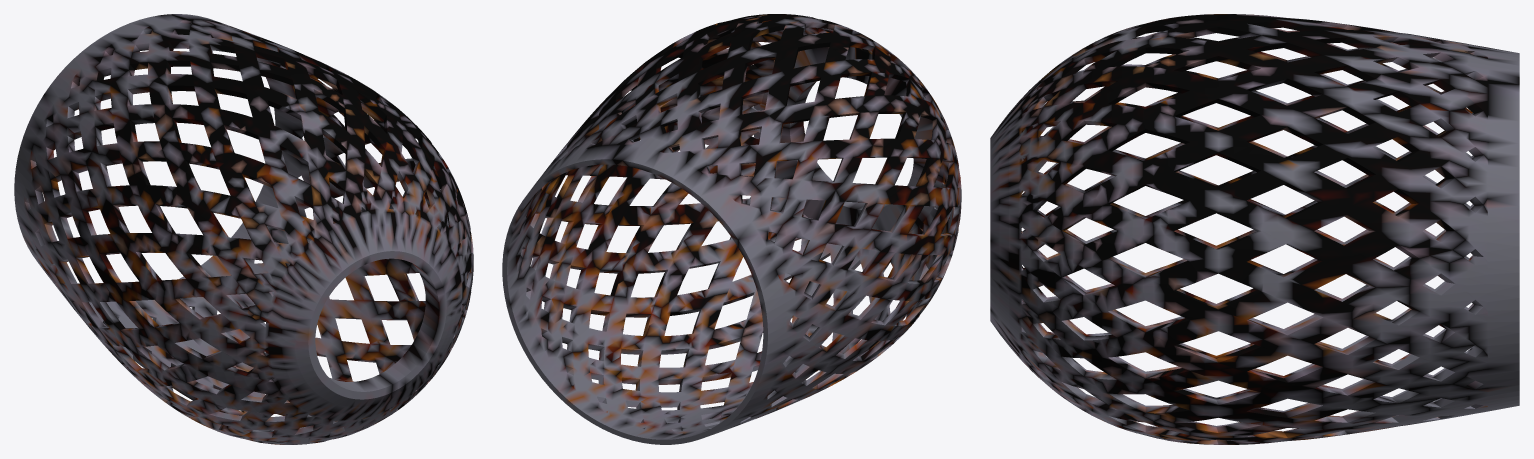
Rendered from lamp_shade_14_final300.obj.
3 views of the same model, side by side, from view 1: azimuth 30°, elevation 25°; view 2: azimuth 150°, elevation 25°; view 3: azimuth 270°, elevation 25° (orthographic). The views are drawn at different scales.
Size of the model in its own units: 1.21 by 1.21 by 1.49.
